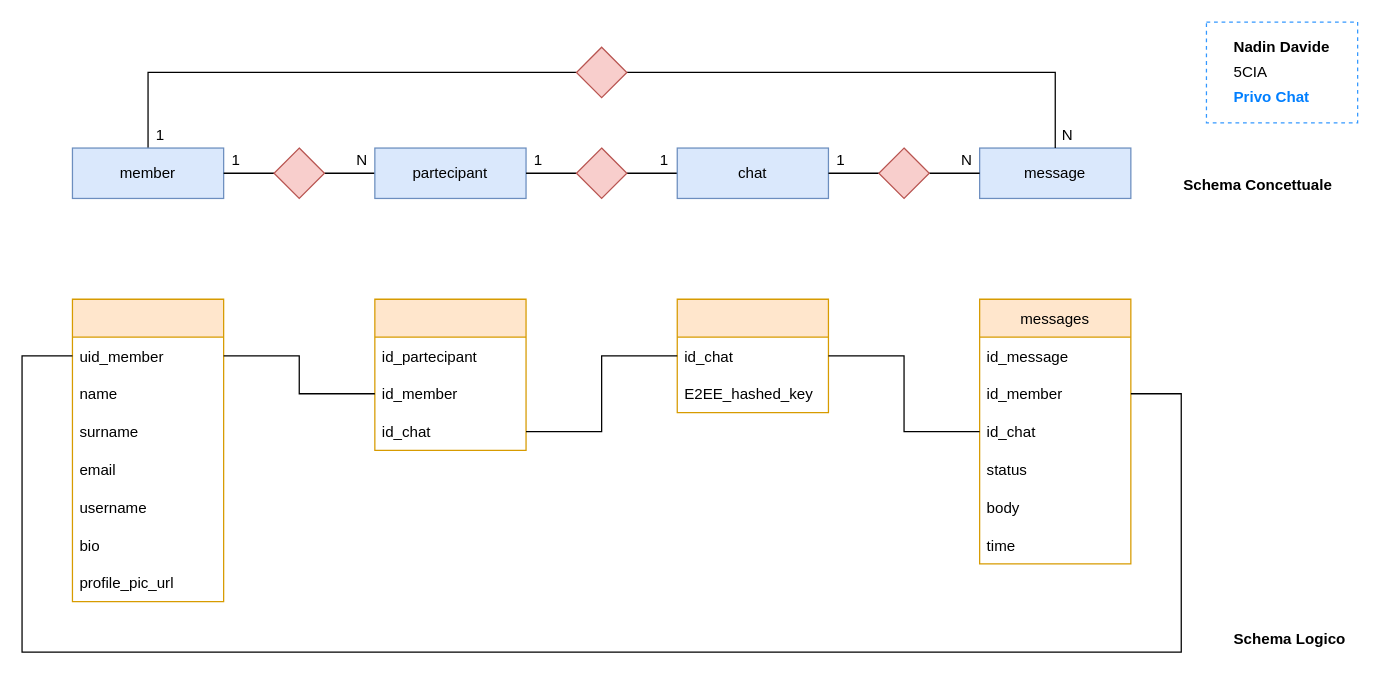
The diagram is 1380 pixels wide and 675 high, and some of its shapes have lost their labels. The box of each missing label's shape, as (x1, y1, x2, y2) in pixels:
chats: (676, 298, 828, 413)
members: (71, 298, 224, 602)
partecipants: (374, 298, 526, 450)
